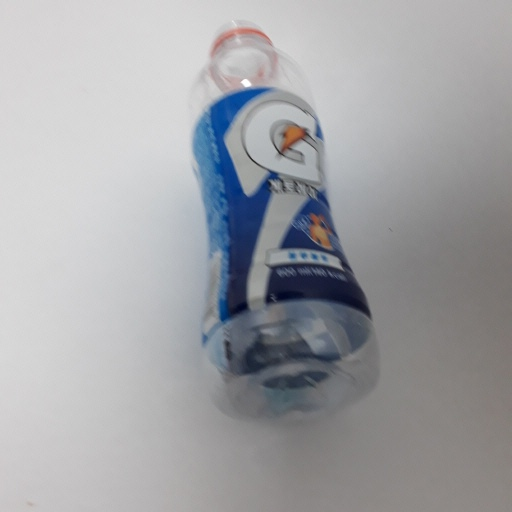Plastic_0: (180, 19, 383, 430)
